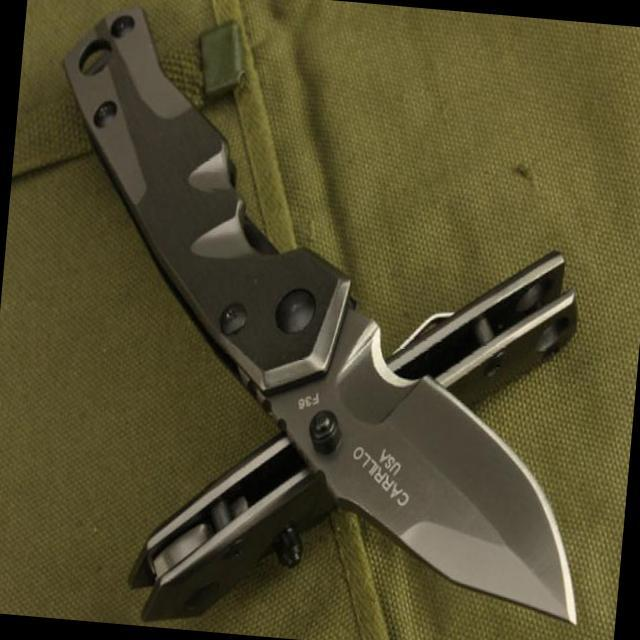Knife: (277, 329, 606, 634)
